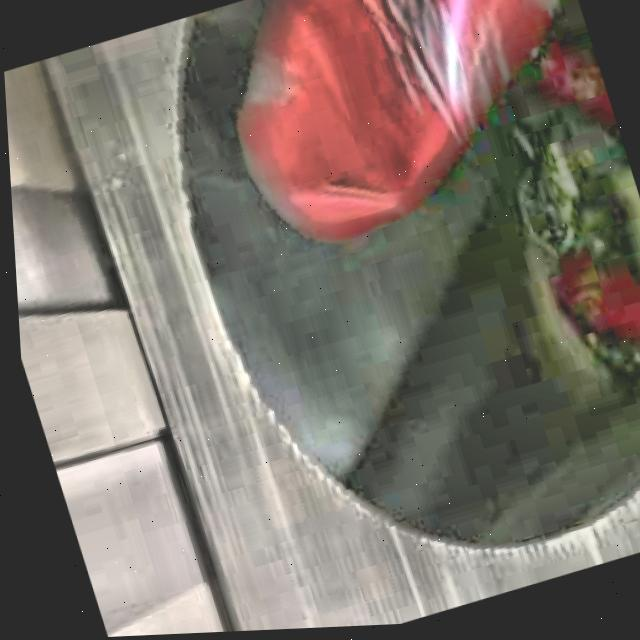metal: (244, 0, 554, 240)
